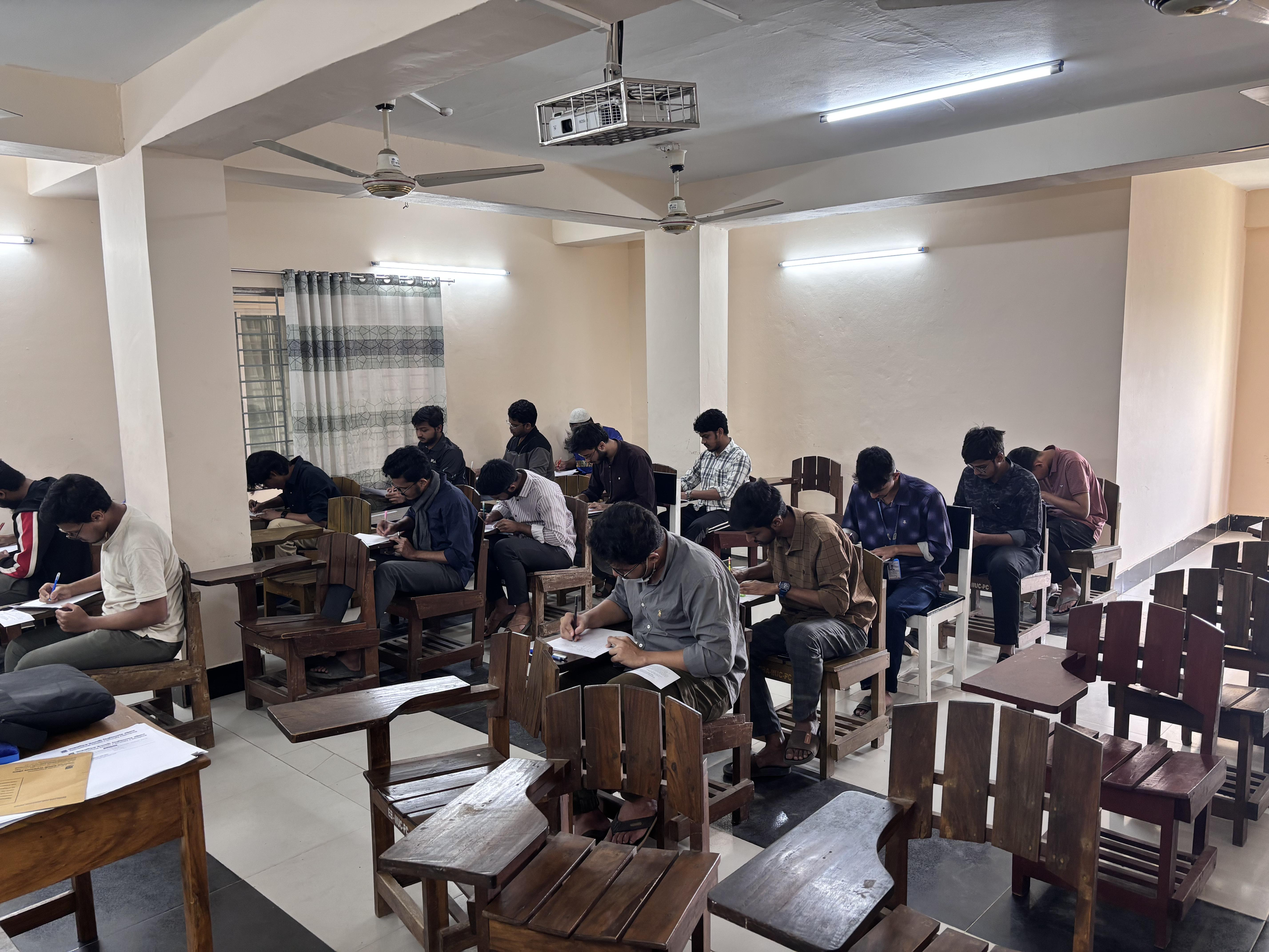no_cheating: (540, 497, 724, 731), (2, 478, 196, 672), (703, 487, 869, 659), (834, 442, 951, 616), (931, 416, 1034, 589), (358, 447, 461, 614), (454, 458, 569, 595), (1016, 422, 1111, 548), (249, 429, 333, 564), (656, 401, 751, 516), (0, 449, 68, 596), (478, 396, 555, 489), (560, 426, 637, 513), (382, 397, 457, 485)
